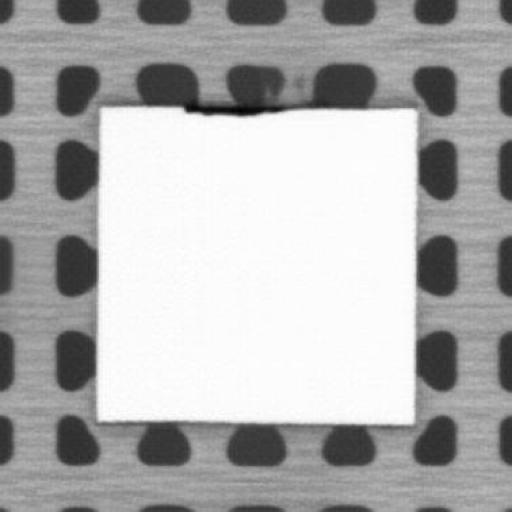DIE_BROKEN: (179, 100, 294, 116)
